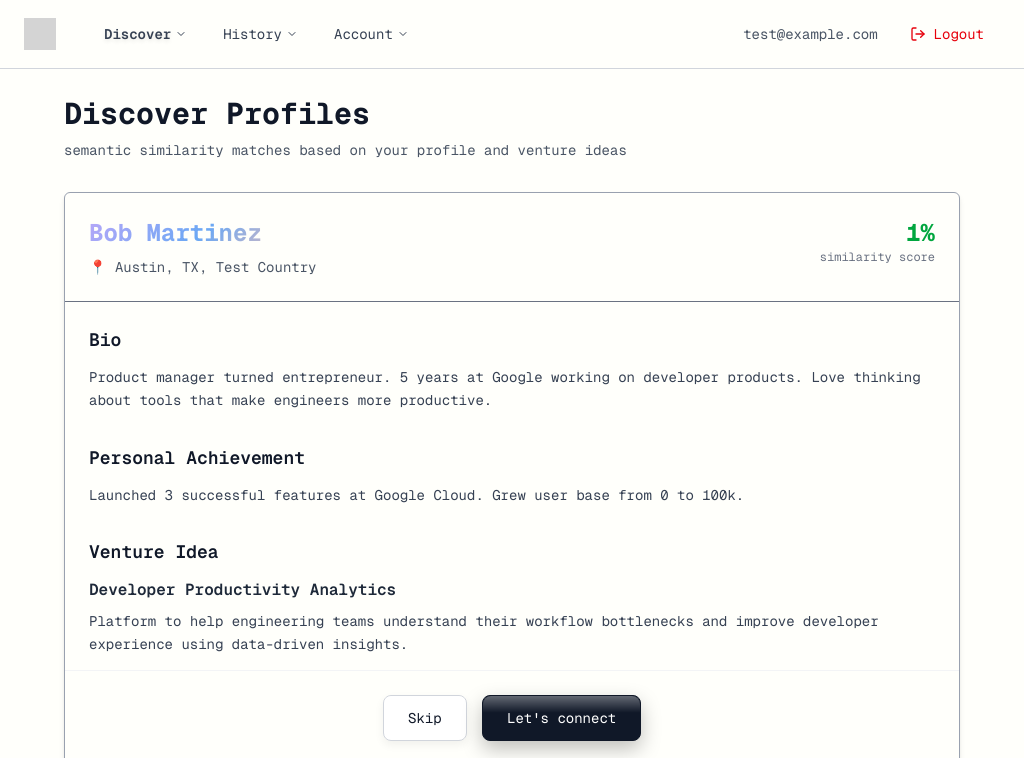
Test: MatchesPage Integration Tests › should automatically advance to next candidate after like action
This screenshot has width=1024, height=758.
Expected: the heading "Bob Martinez" is shown, [89, 217, 316, 249]
Click the button "Let's connect" at (562, 718), box [482, 695, 641, 741]
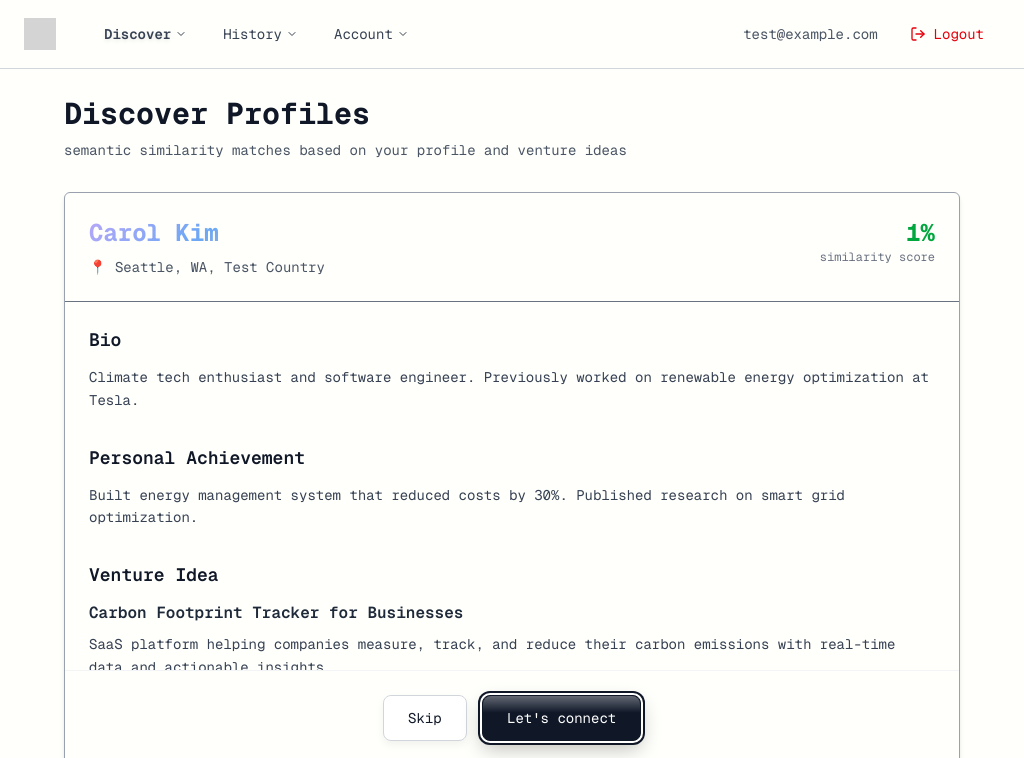
Expected: the heading "Carol Kim" is shown, [89, 217, 325, 249]
